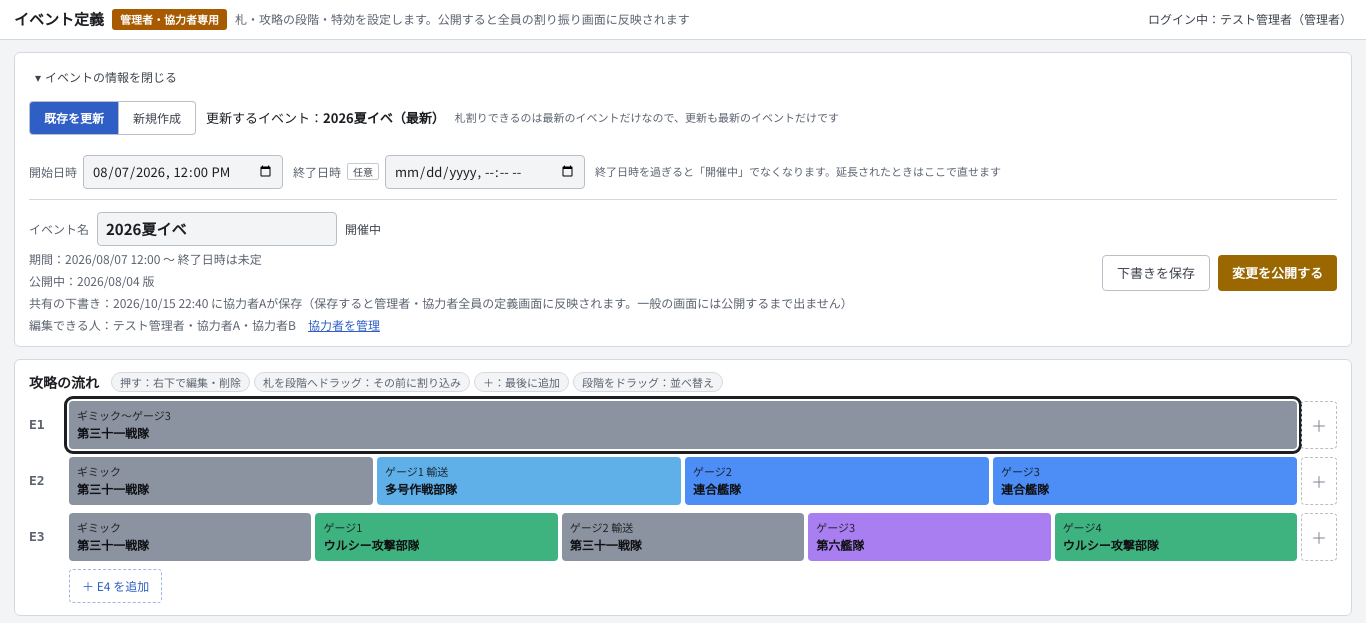
イベント定義の画面（PlanEditor）：PR-11b のレビュー・Codex の指摘の直し方（PR-11c） › 1. 確認のウィンドウが出ている間は、既存を更新／新規作成を切り替えられない（レビュー M1・Codex 4301057821） › 確認のウィンドウを閉じたら（保存をやめる）、切り替えを押せるように戻り、理由の文を消す
The image size is (1366, 623).
Expected: the element "攻略の流れ" is shown, [14,358,1352,616]
Step 1. Click the button "ゲージ3 連合艦隊" → (1020,470), box [993,456,1297,504]
(page scrolled)
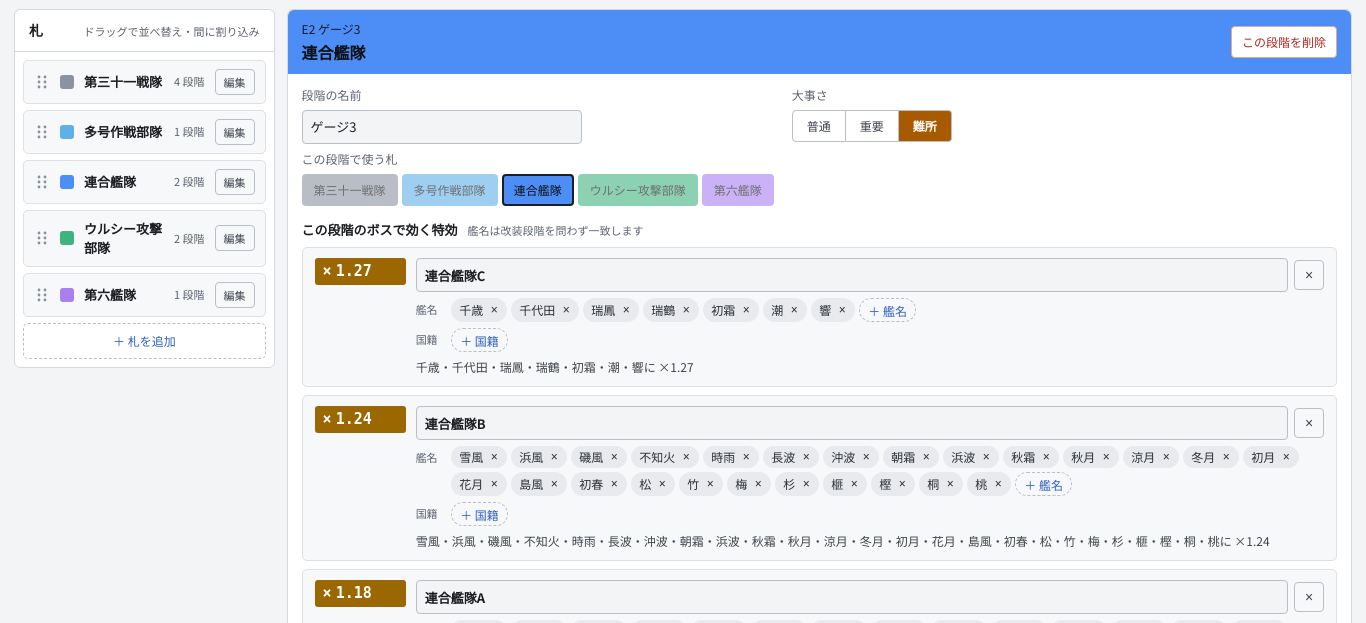
Step 2. Click the button "普通" → (819,126), box [792,110,846,142]
(page scrolled)
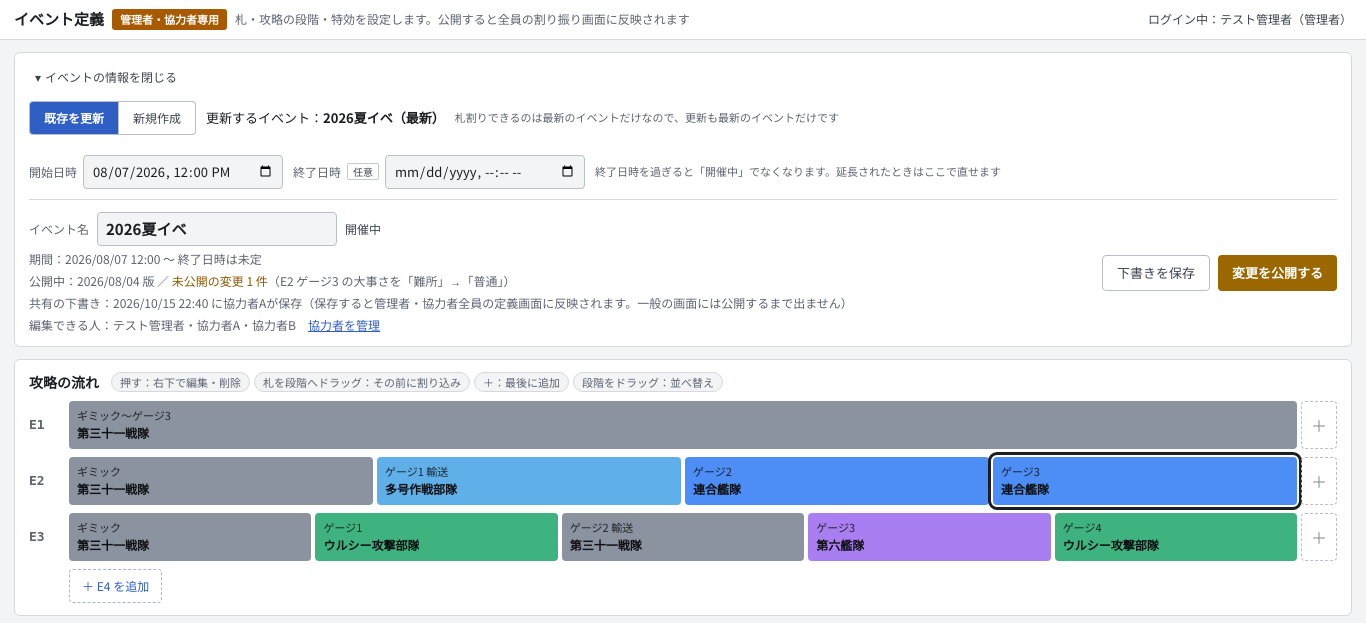
Step 3. Click the button "下書きを保存" → (1156,272), box [1102,254,1210,290]
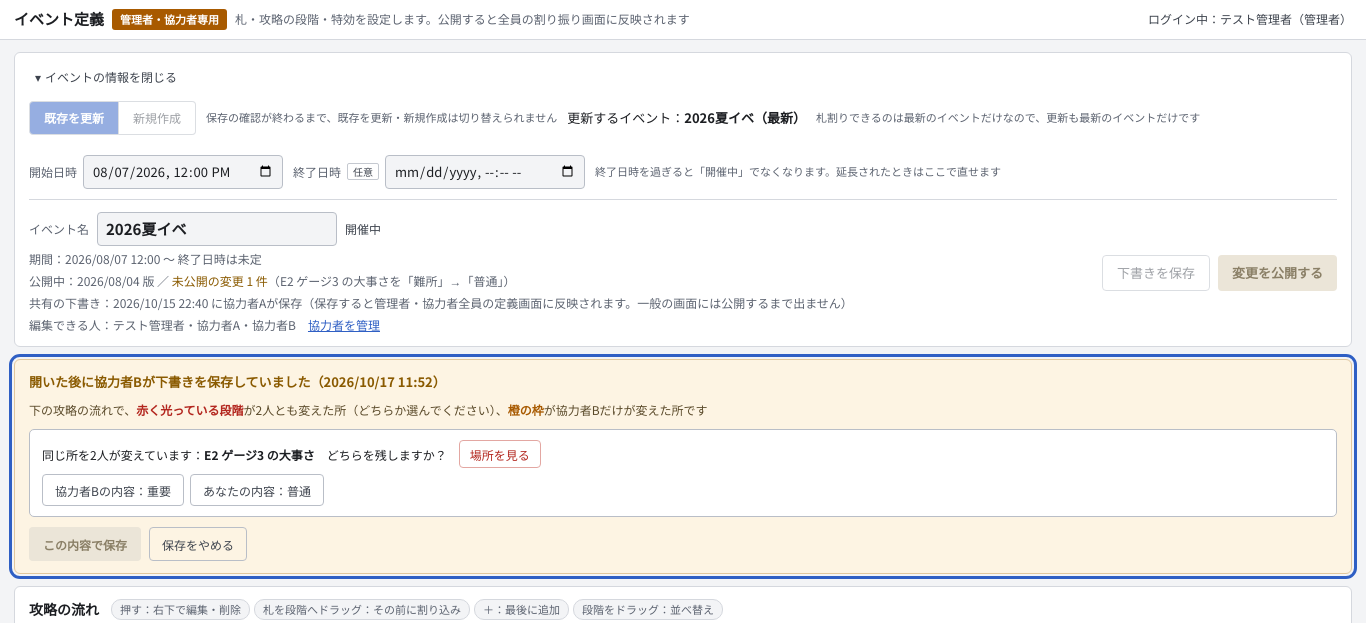
Step 4. Click the button "保存をやめる" → (198,544), box [149,527,247,561]
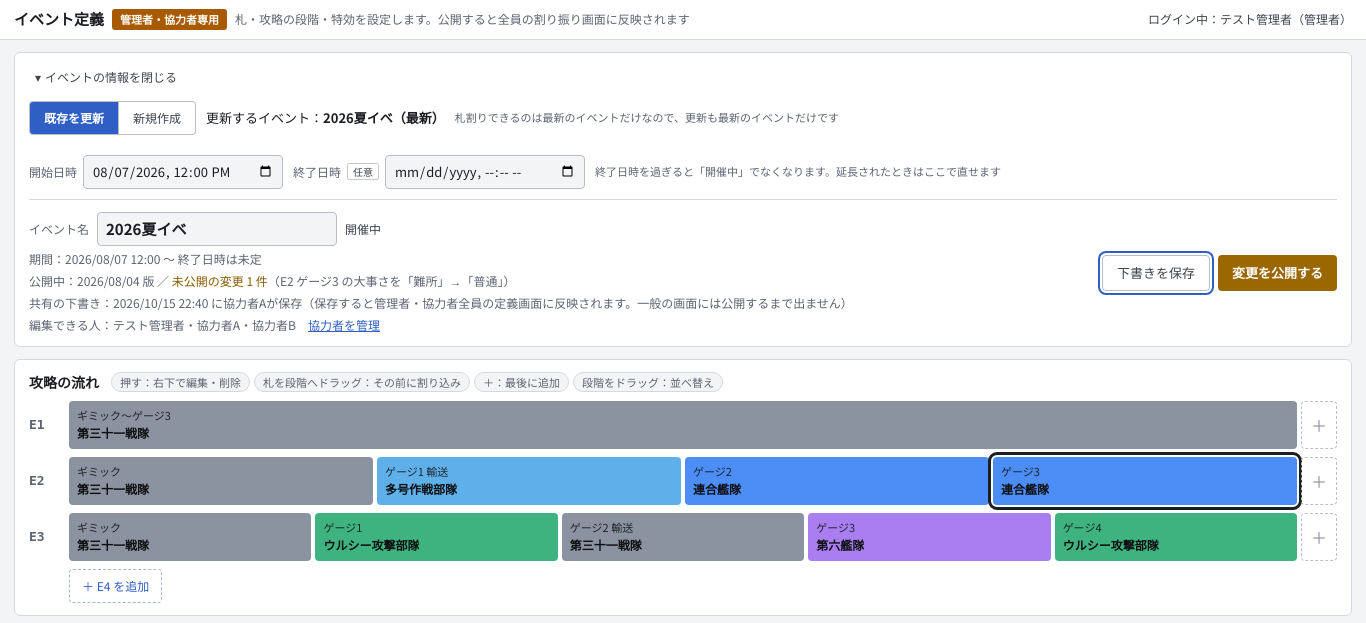
Now the text "保存の確認" is gone
Now the radio button labelled "新規作成" is enabled, box [119,100,196,134]
Now the radio button labelled "既存を更新" is enabled, box [29,100,119,134]
